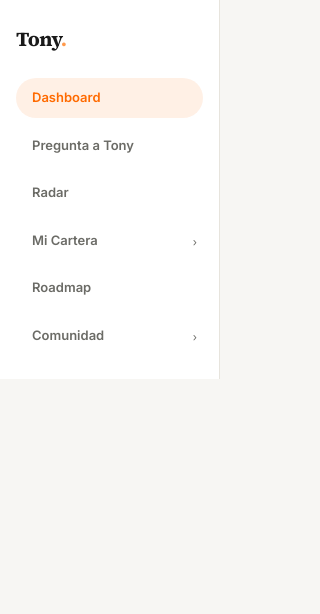
Scenario: Mi Cartera group › toggles open when chevron button is clicked
Check: the text "Mis datos" is not shown
Click the button named "mi cartera".
click(195, 240)  # box x1=187 y1=222 x2=203 y2=258
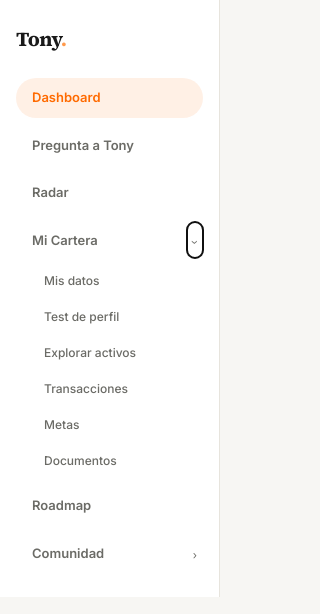
Check: the link "Mis datos" is shown, box x1=44 y1=273 x2=100 y2=288
